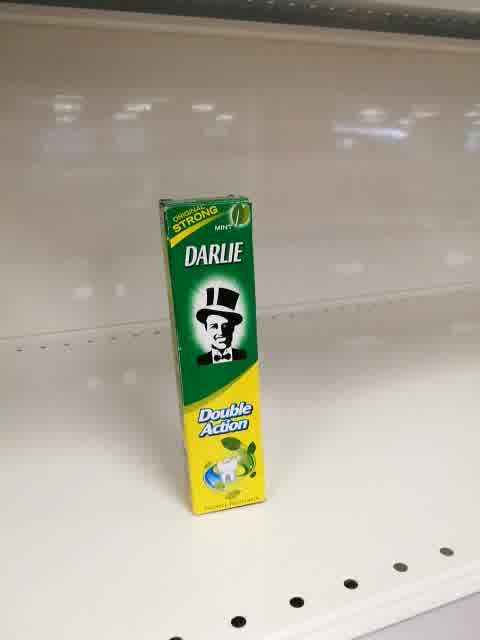toothpaste: (158, 195, 268, 517)
